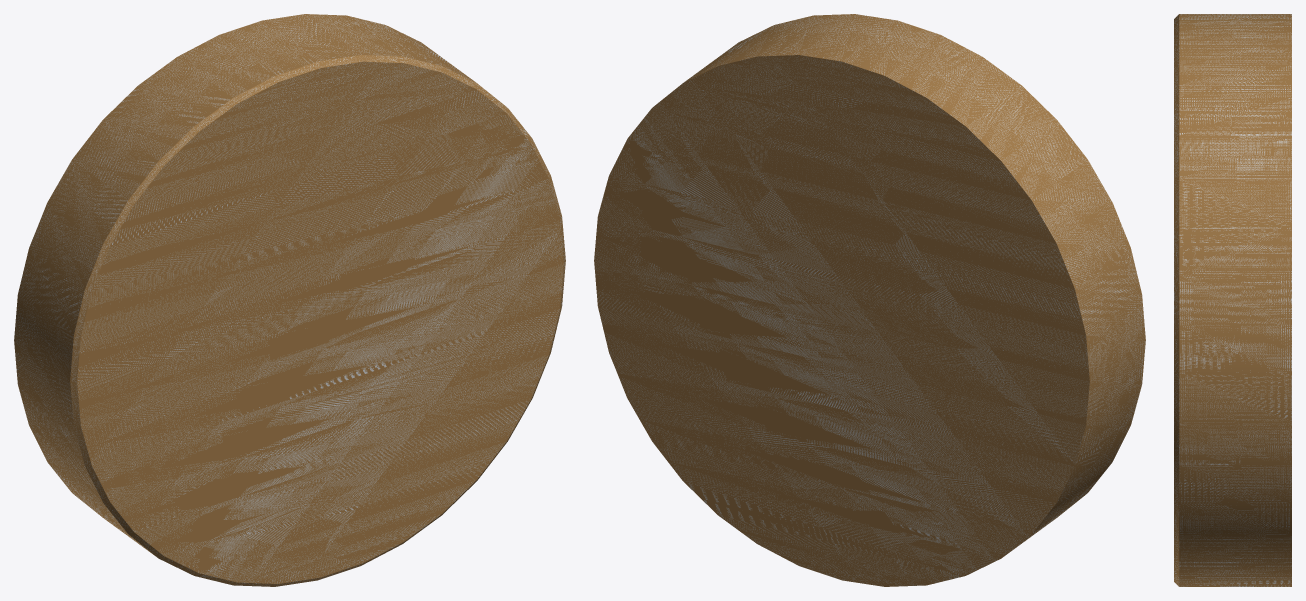
File: original-5.obj
The picture shows the model from 3 angles, left to right: view 1: azimuth 30°, elevation 25°; view 2: azimuth 150°, elevation 25°; view 3: azimuth 270°, elevation 25°; orthographic projection.
Visible parts, largest first — view 1: mesh4/mesh4-geometry#mesh4-geometry; view 2: mesh4/mesh4-geometry#mesh4-geometry; view 3: mesh4/mesh4-geometry#mesh4-geometry.
Part boxes in pixels (x1,y1,x2,y2): mesh4/mesh4-geometry#mesh4-geometry: (14,14,565,586); mesh4/mesh4-geometry#mesh4-geometry: (594,14,1145,586); mesh4/mesh4-geometry#mesh4-geometry: (1174,14,1291,586).
Size of the model in its own units: 0.4576 by 0.4576 by 0.0937.
